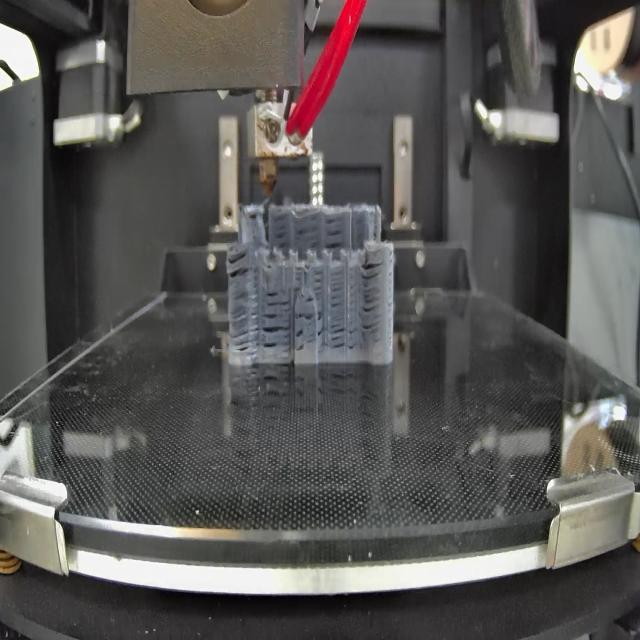cracks: (230, 288, 259, 356), (361, 258, 382, 344), (261, 315, 292, 355), (295, 218, 321, 252), (226, 250, 252, 280), (330, 322, 359, 348), (326, 215, 346, 251), (274, 213, 291, 250), (267, 287, 292, 309), (332, 270, 345, 310), (297, 309, 324, 324), (294, 263, 305, 292), (312, 268, 323, 296), (295, 328, 305, 352), (316, 328, 326, 349), (247, 209, 260, 221), (304, 297, 315, 302)
